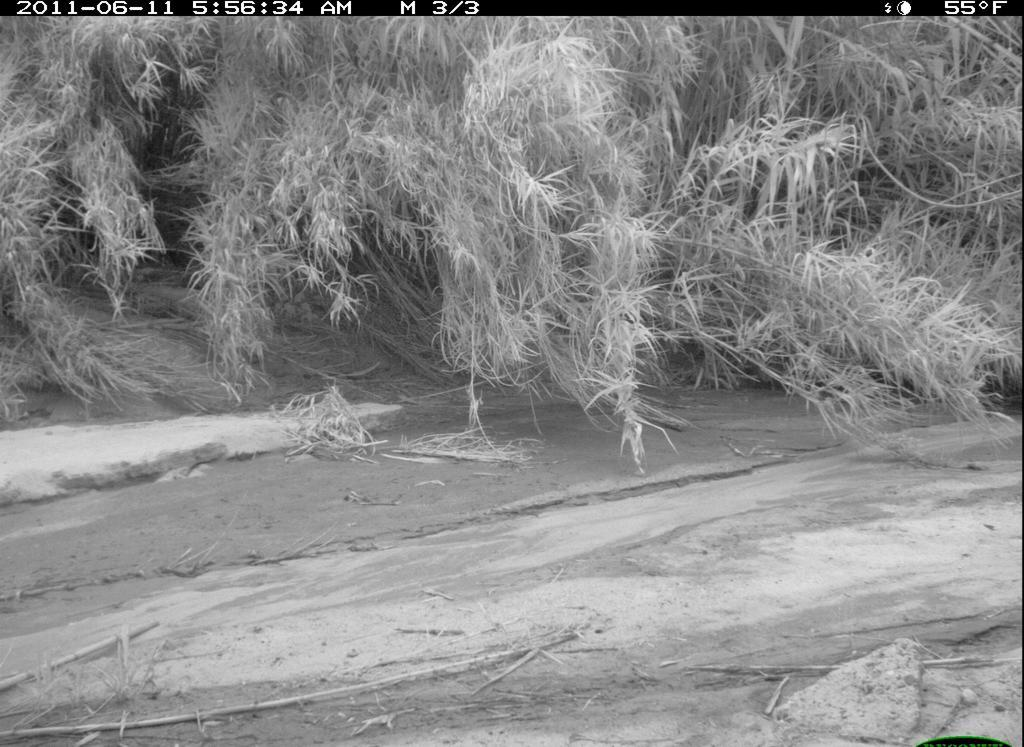bobcat: (770, 22, 1022, 285)
